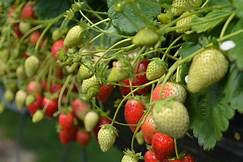Fresa: (121, 92, 150, 135), (150, 130, 176, 162)
